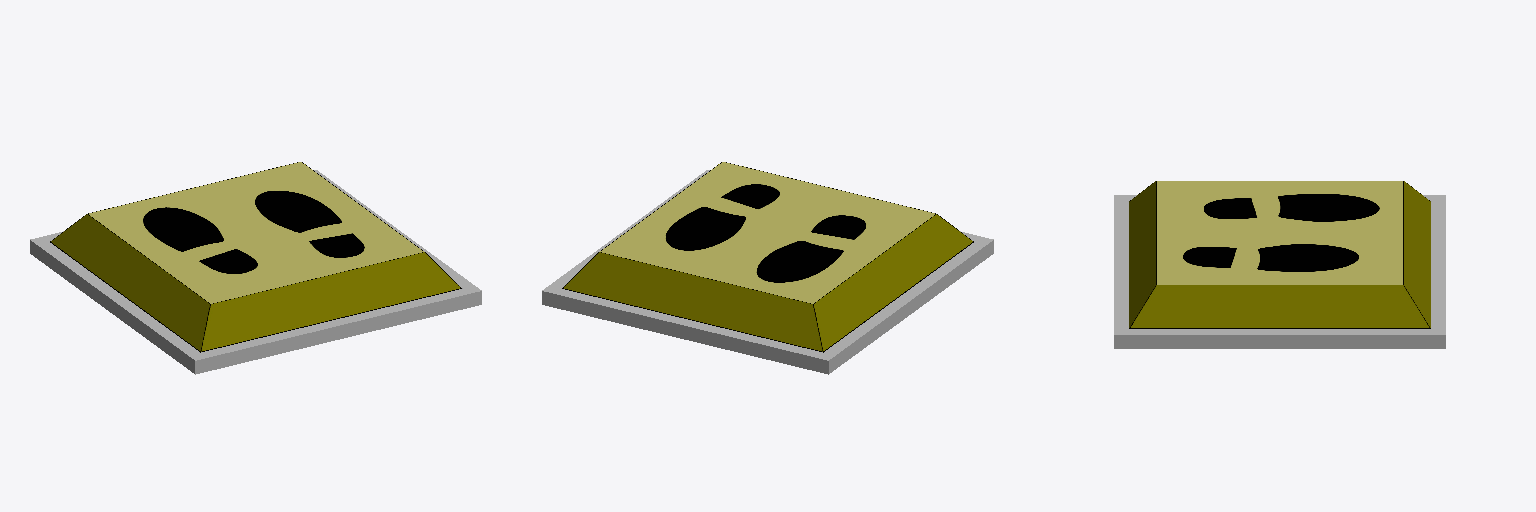
The picture shows the model from 3 angles: view 1: azimuth 30°, elevation 25°; view 2: azimuth 150°, elevation 25°; view 3: azimuth 270°, elevation 25°; orthographic projection.
Visible parts, largest first — view 1: button; view 2: button; view 3: button.
Boxes of the visible parts, <box> form: button: <box>30,162,481,374</box>; button: <box>542,162,993,374</box>; button: <box>1114,181,1445,348</box>.
Bounding box in the file's own units: 0.6638 × 0.1022 × 0.6638.
Materials: 1 (1 with a texture image).